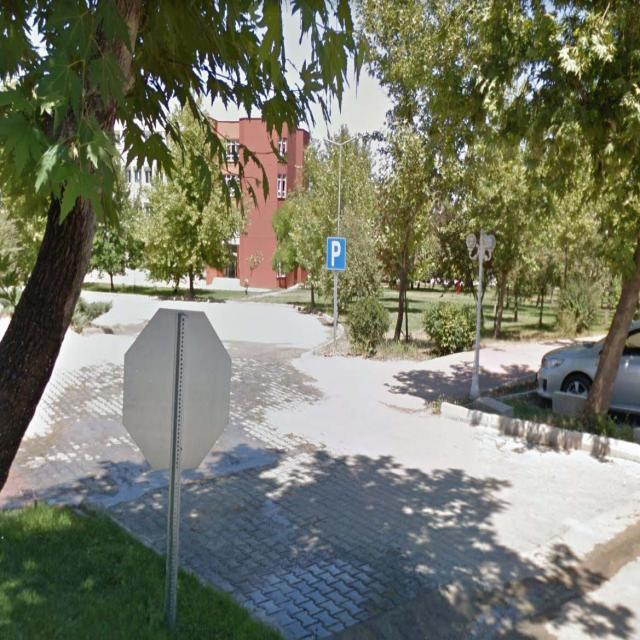park: (327, 236, 344, 272)
